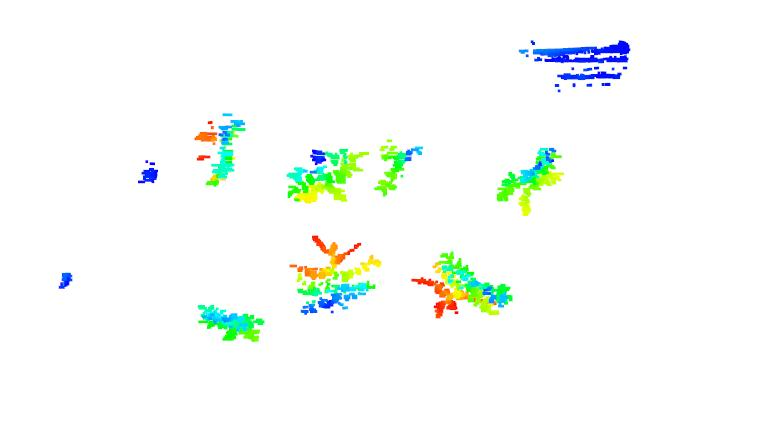chickpea: (283, 233, 384, 315), (410, 251, 514, 322), (492, 143, 567, 218), (283, 145, 372, 204), (194, 110, 251, 188), (192, 302, 271, 350), (368, 136, 427, 198)
